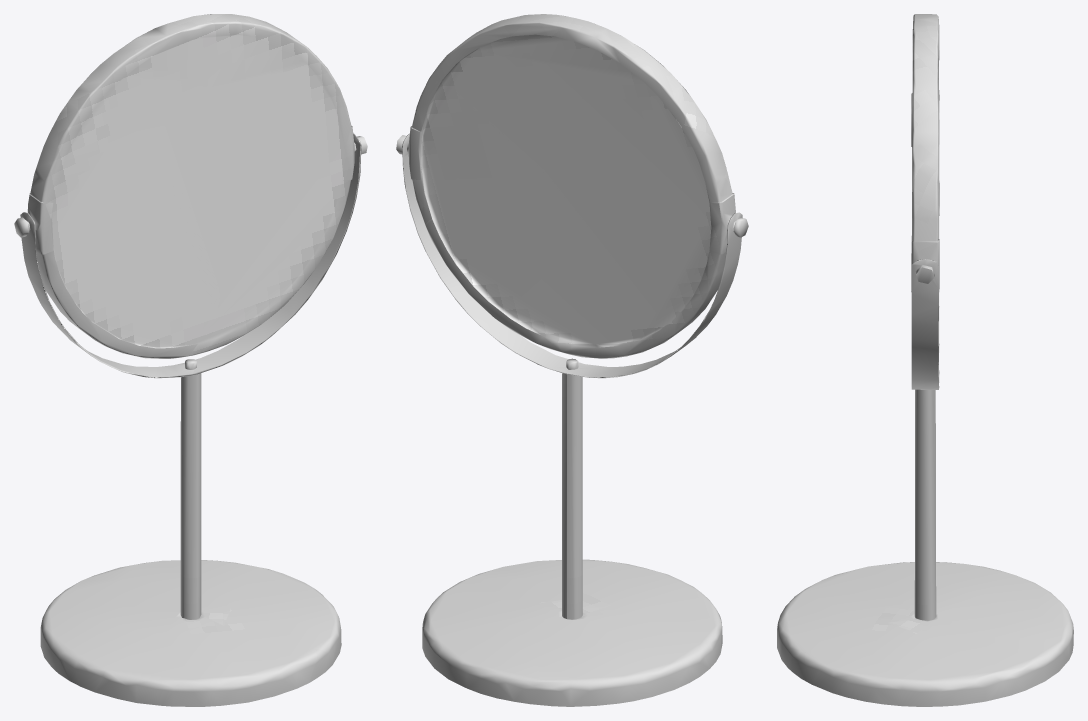
Rendered from 04 - TRENSUM - 鏡子, 不鏽鋼 IKEA 線上購物.glb.
3 renders of one model, left to right at view 1: azimuth 30°, elevation 25°; view 2: azimuth 150°, elevation 25°; view 3: azimuth 270°, elevation 25°, orthographic.
Parts seen in each view (by area): view 1: ProcessedMeshNode; view 2: ProcessedMeshNode; view 3: ProcessedMeshNode.
Boxes of the visible parts, bbox=[...] form: ProcessedMeshNode: bbox=[14, 14, 367, 706]; ProcessedMeshNode: bbox=[396, 14, 748, 706]; ProcessedMeshNode: bbox=[777, 14, 1073, 706].
Size of the model in its own units: 0.1862 by 0.3217 by 0.141.
1 material, 1 textured.
